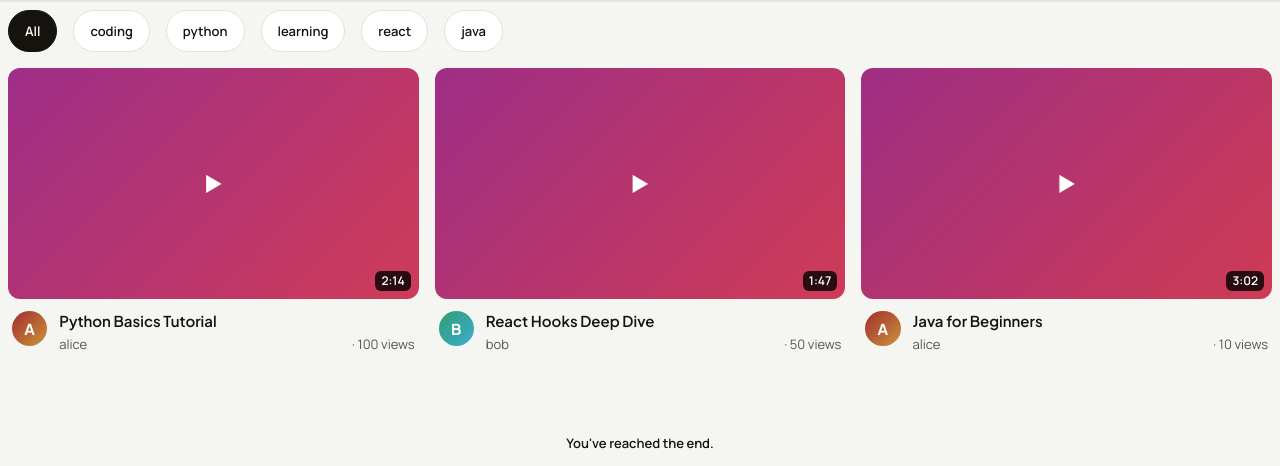
Test case: A — Home chips filter the feed › python chip shows only python videos; All restores the feed
The width and height of the screenshot is (1280, 466).
Expected: the text "Python Basics Tutorial" is shown, x1=59 y1=311 x2=217 y2=330
Click the button "python": (205, 31) x1=166 y1=10 x2=244 y2=52
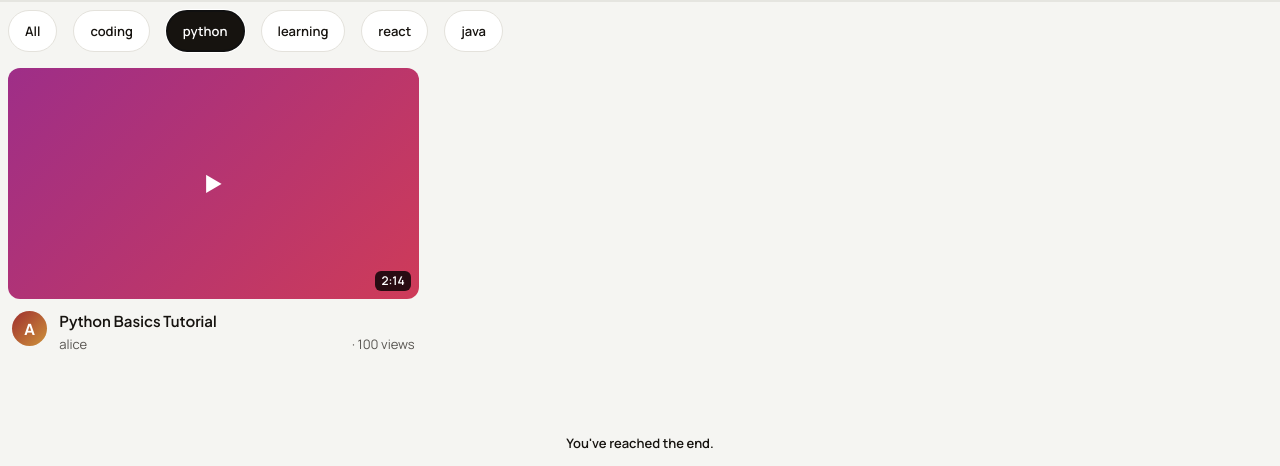
Expected: the text "Python Basics Tutorial" is shown, x1=59 y1=311 x2=217 y2=330
Expected: the text "Java for Beginners" is gone
Click the button "All": (33, 31) x1=8 y1=10 x2=58 y2=52
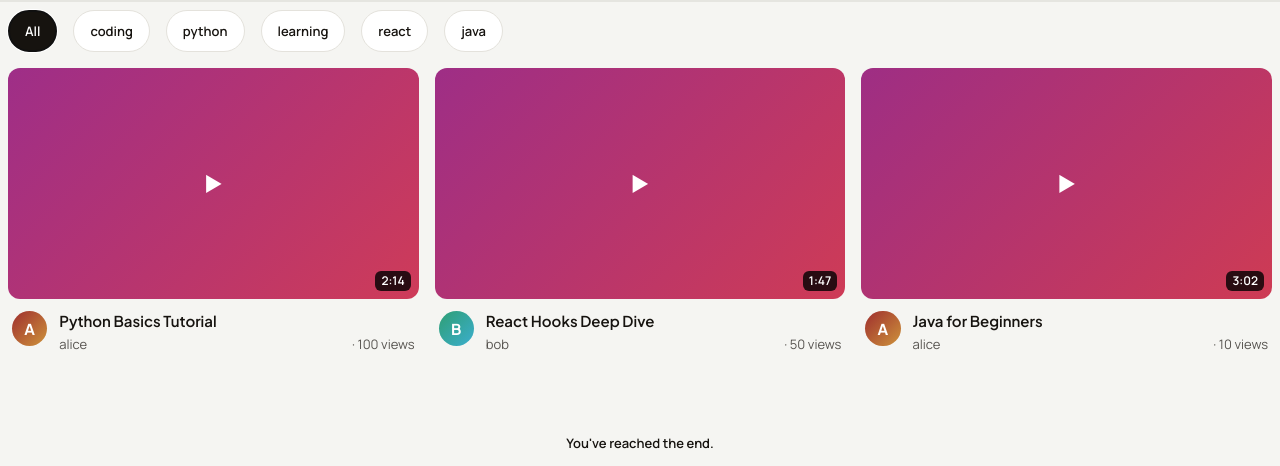
Expected: the text "Python Basics Tutorial" is shown, x1=59 y1=311 x2=217 y2=330
Expected: the text "Java for Beginners" is shown, x1=912 y1=311 x2=1043 y2=330
